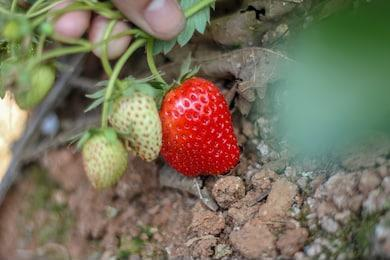Fresa: (148, 71, 244, 182)
